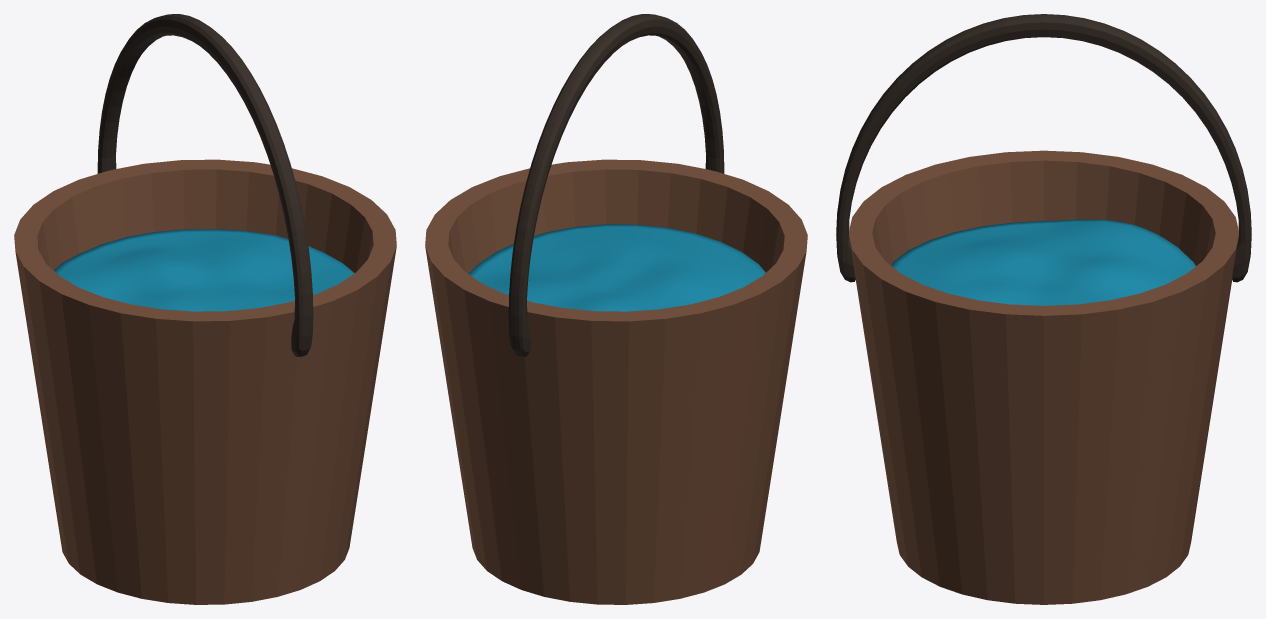
File: filled_bucket 1.fbx
The picture shows the model from 3 angles, left to right: view 1: azimuth 30°, elevation 25°; view 2: azimuth 150°, elevation 25°; view 3: azimuth 270°, elevation 25°; orthographic projection.
Parts seen in each view (by area): view 1: Cylinder, Cylinder.001, Circle; view 2: Cylinder, Cylinder.001, Circle; view 3: Cylinder, Cylinder.001, Circle.
Part boxes in pixels (bbox=[...]): Cylinder: bbox=[14, 159, 396, 604]; Cylinder.001: bbox=[54, 229, 354, 311]; Circle: bbox=[97, 14, 313, 356]; Cylinder: bbox=[425, 159, 807, 604]; Cylinder.001: bbox=[468, 224, 765, 311]; Circle: bbox=[508, 14, 724, 356]; Cylinder: bbox=[849, 150, 1238, 604]; Cylinder.001: bbox=[891, 219, 1195, 305]; Circle: bbox=[836, 14, 1251, 282].
Bounding box in the file's own units: 200 × 298 × 213.
